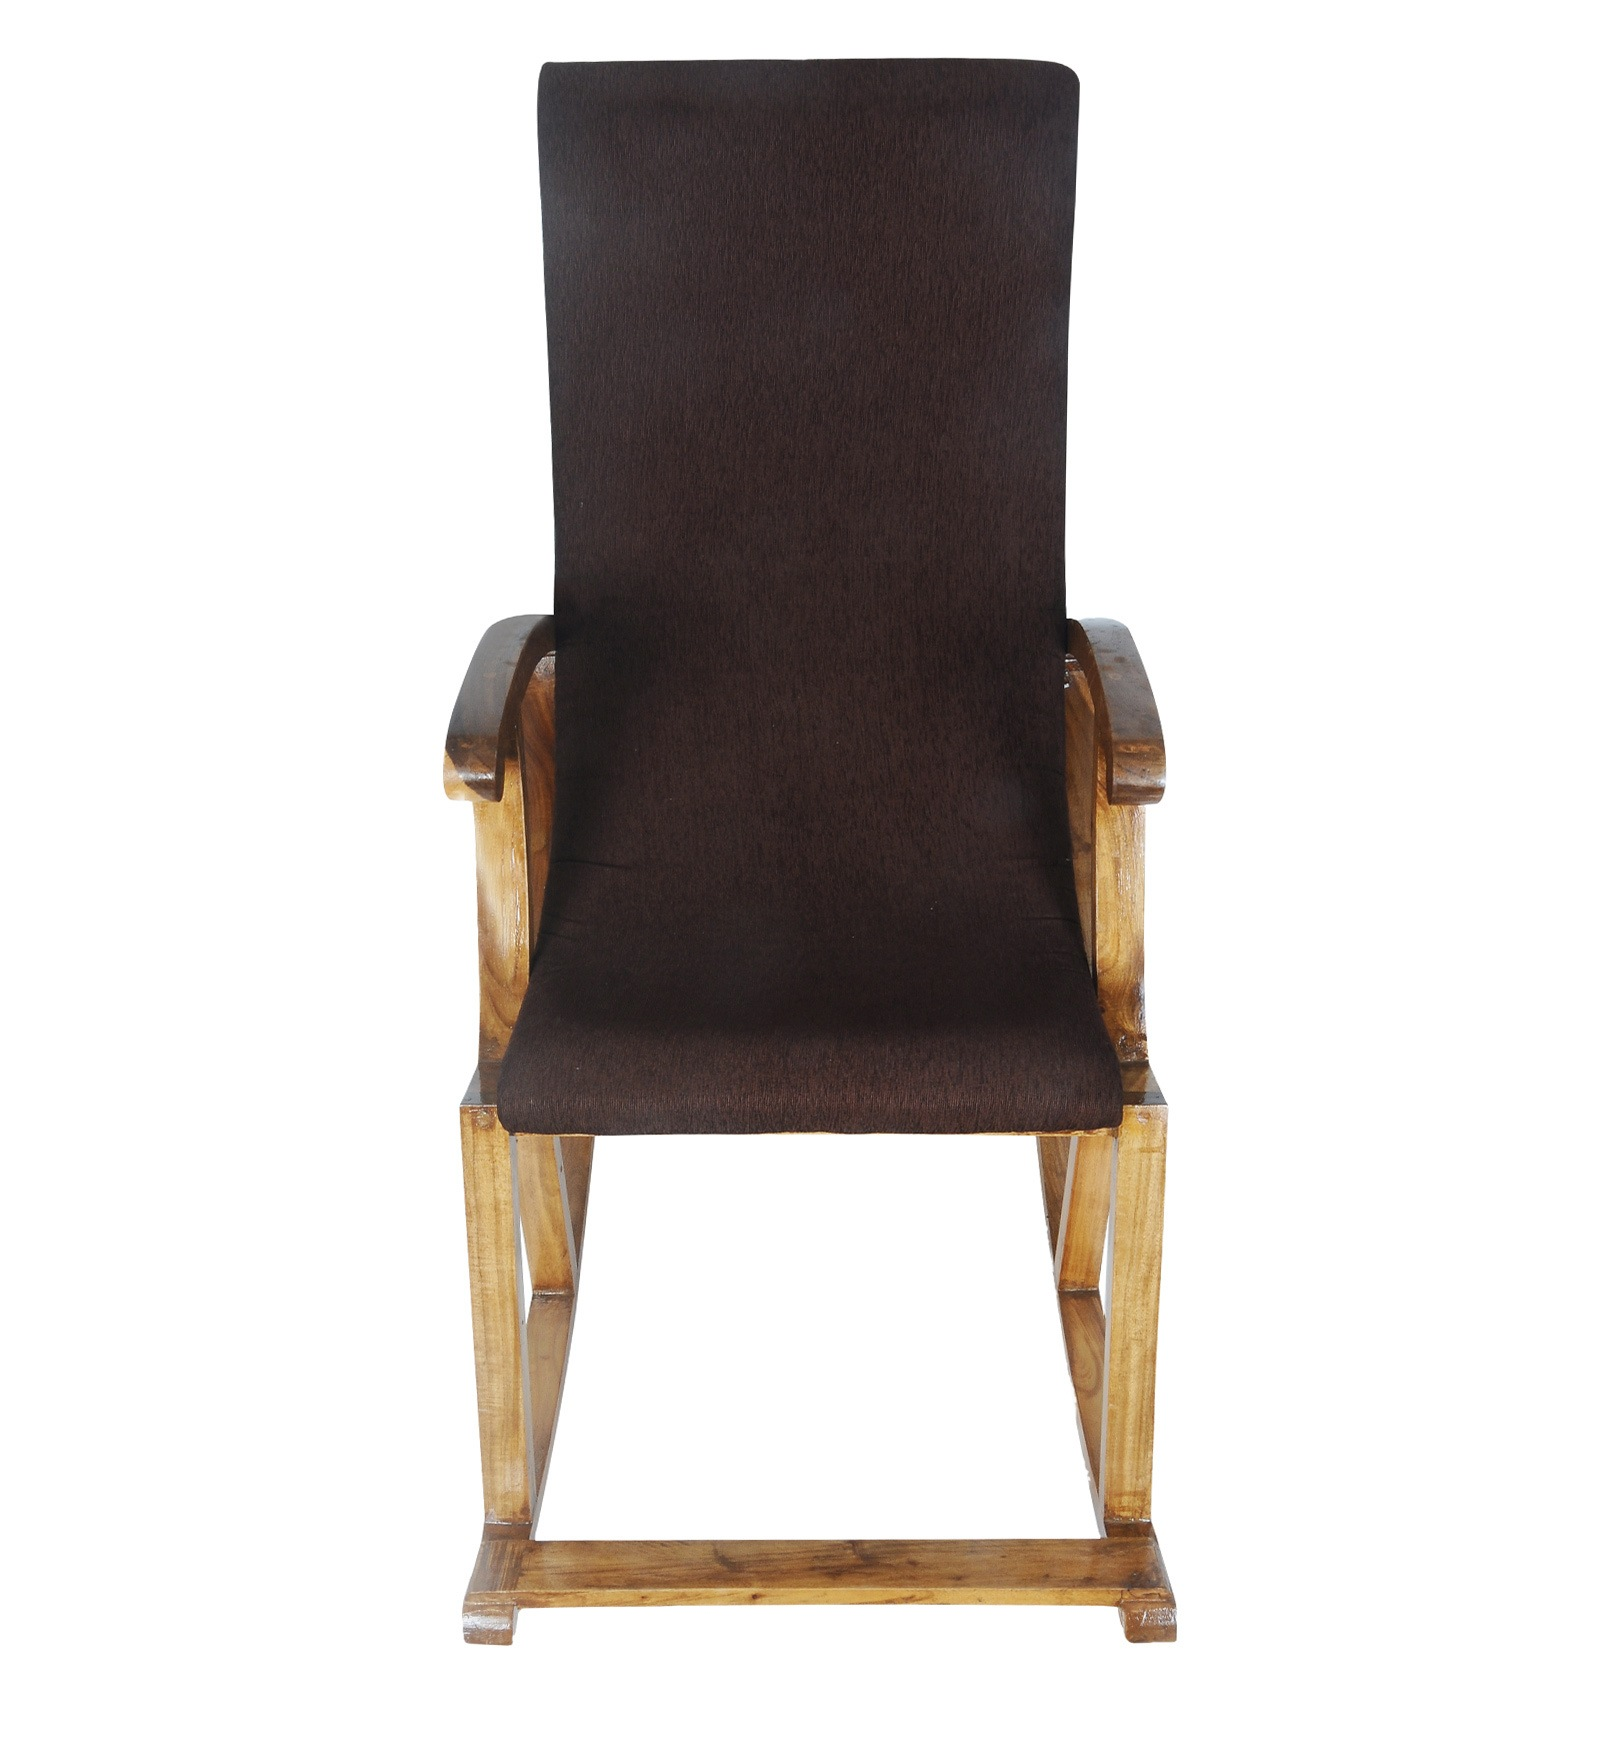Upholstered Teak Wood Rocking Chair in Natural Finish by Furniease: (362, 12, 1290, 1700)
